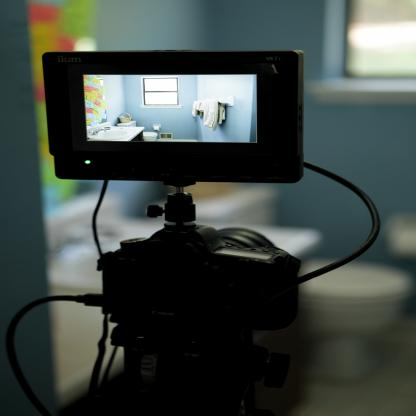Camera: (30, 22, 355, 397)
